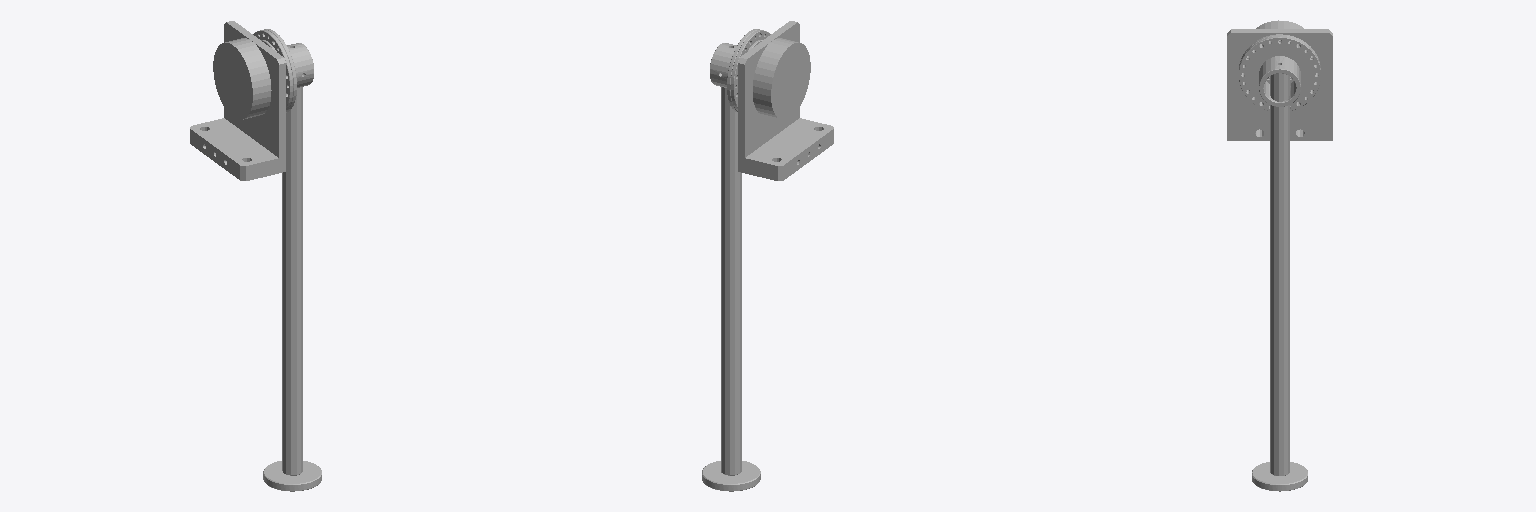
The robot description file, URDF, robot "oneLink":
<?xml version="1.0" encoding="utf-8"?>
<!-- This URDF was automatically created by SolidWorks to URDF Exporter! Originally created by [author] ([email redacted]) 
     Commit Version: 1.6.0-4-g7f85cfe  Build Version: 1.6.7995.38578
     For more information, please see http://wiki.ros.org/sw_urdf_exporter -->
<robot
  name="oneLink">
  <link
    name="base">
    <inertial>
      <origin
        xyz="0.017607 2.0762E-05 -0.057369"
        rpy="0 0 0" />
      <mass
        value="0.26056" />
      <inertia
        ixx="0.00091757"
        ixy="3.9561E-08"
        ixz="-0.00010931"
        iyy="0.0005816"
        iyz="2.9483E-08"
        izz="0.00050013" />
    </inertial>
    <visual>
      <origin
        xyz="0 0 0"
        rpy="0 0 0" />
      <geometry>
        <mesh
          filename="../assets/base.STL" />
      </geometry>
      <material
        name="">
        <color
          rgba="0.75294 0.75294 0.75294 1" />
      </material>
    </visual>
    <collision>
      <origin
        xyz="0 0 0"
        rpy="0 0 0" />
      <geometry>
        <mesh
          filename="../assets/base.STL" />
      </geometry>
    </collision>
  </link>
  <joint
    name="Rx"
    type="revolute">
    <origin
      xyz="0.0426 0 0"
      rpy="0 0 0" />
    <parent
      link="base" />
    <child
      link="link1" />
    <axis
      xyz="1 0 0" />
    <limit
      lower="-6.2832"
      upper="6.2832"
      effort="100"
      velocity="10" />
  </joint>
  <link
    name="link1">
    <inertial>
      <origin
        xyz="0 0 -0.208"
        rpy="0 0 0" />
      <mass
        value="1.22" />
      <inertia
        ixx="0.044414947"
        ixy="0"
        ixz="-0.0016"
        iyy="0.05023764"
        iyz="0"
        izz="0.00702564" />
    </inertial>
    <visual>
      <origin
        xyz="0 0 0"
        rpy="0 0 0" />
      <geometry>
        <mesh
          filename="../assets/link1.STL" />
      </geometry>
      <material
        name="">
        <color
          rgba="0.75294 0.75294 0.75294 1" />
      </material>
    </visual>
    <collision>
      <origin
        xyz="0 0 0"
        rpy="0 0 0" />
      <geometry>
        <mesh
          filename="../assets/link1.STL" />
      </geometry>
    </collision>
  </link>
  <!-- <joint
    name="Rx"
    type="revolute">
    <origin
      xyz="0.0426 0 0"
      rpy="0 0 0" />
    <parent
      link="base" />
    <child
      link="link1" />
    <axis
      xyz="1 0 0" />
    <limit
      lower="0"
      upper="0"
      effort="0"
      velocity="0" />
  </joint> -->
</robot>

--- What the picture shows (computed from the rendered views, not written in the file) ---
Views: 3 orthographic renders of the robot side by side, from view 1: azimuth 30°, elevation 25°; view 2: azimuth 150°, elevation 25°; view 3: azimuth 270°, elevation 25°.
Model oneLink with 2 links and 1 joints (1 revolute), rooted at base, posed every joint at zero.
Links seen in each view (by area): view 1: link1, base; view 2: link1, base; view 3: link1, base.
Boxes of the visible links, left/top/right/bottom form: link1: left=253, top=29, right=321, bottom=491; base: left=190, top=21, right=285, bottom=180; link1: left=702, top=29, right=770, bottom=491; base: left=738, top=21, right=833, bottom=180; link1: left=1239, top=34, right=1320, bottom=491; base: left=1227, top=20, right=1332, bottom=140.
Bounding box of the posed robot: 0.1411 × 0.1301 × 0.59 m (x, y, z).
2 mesh visuals loaded from 2 distinct referenced files (2 binary STL).